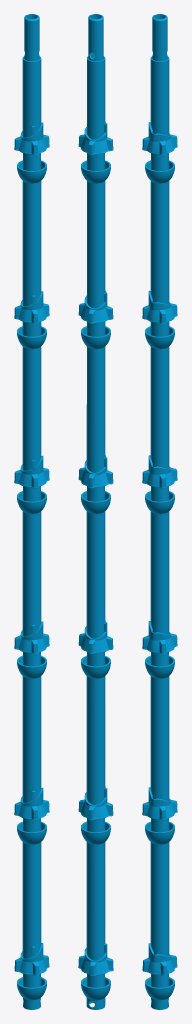
Rendered from 3_m_Verticals.fbx.
3 renders of one model, left to right at view 1: azimuth 90°, elevation 25°; view 2: azimuth 150°, elevation 25°; view 3: azimuth 270°, elevation 25°, orthographic.
Visible parts, largest first — view 1: three_m_verticals, Topcup_2, Topcup_4, Topcup_3, Topcup_6, Topcup_5, Topcup_1; view 2: three_m_verticals, Topcup_1, Topcup_2, Topcup_4, Topcup_6, Topcup_5, Topcup_3; view 3: three_m_verticals, Topcup_2, Topcup_4, Topcup_3, Topcup_6, Topcup_5, Topcup_1.
Boxes of the visible parts, x1,y1,x2,y2 form: three_m_verticals: (17, 14, 46, 1009); Topcup_2: (14, 787, 49, 820); Topcup_4: (14, 455, 49, 488); Topcup_3: (14, 621, 49, 654); Topcup_6: (14, 122, 49, 155); Topcup_5: (14, 291, 49, 323); Topcup_1: (14, 943, 49, 975); three_m_verticals: (81, 14, 110, 1009); Topcup_1: (78, 947, 113, 976); Topcup_2: (78, 787, 113, 820); Topcup_4: (78, 455, 113, 488); Topcup_6: (78, 122, 113, 155); Topcup_5: (78, 290, 113, 323); Topcup_3: (78, 621, 113, 653); three_m_verticals: (145, 14, 174, 1009); Topcup_2: (142, 787, 177, 820); Topcup_4: (142, 455, 177, 488); Topcup_3: (142, 621, 177, 654); Topcup_6: (142, 122, 177, 155); Topcup_5: (142, 290, 177, 323); Topcup_1: (142, 943, 177, 975).
Bounding box in the file's own units: 9.79 × 300 × 9.79.
